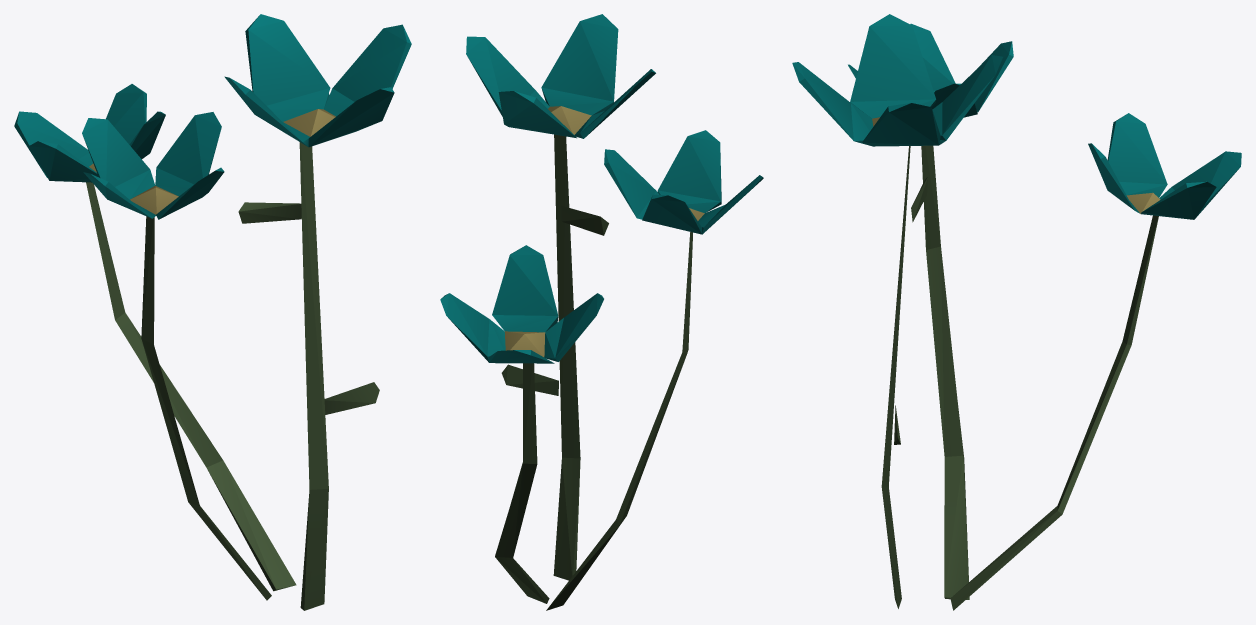
The model's file is flowers.glb.
3 views of the same model, side by side, from view 1: azimuth 30°, elevation 25°; view 2: azimuth 150°, elevation 25°; view 3: azimuth 270°, elevation 25° (orthographic). The views are drawn at different scales.
Parts seen in each view (by area): view 1: flowers; view 2: flowers; view 3: flowers.
Part boxes in pixels (x1,y1,x2,y2): flowers: [14, 14, 411, 610]; flowers: [440, 14, 763, 610]; flowers: [792, 14, 1241, 610].
Bounding box in the file's own units: 0.3511 × 0.6 × 0.4418.
